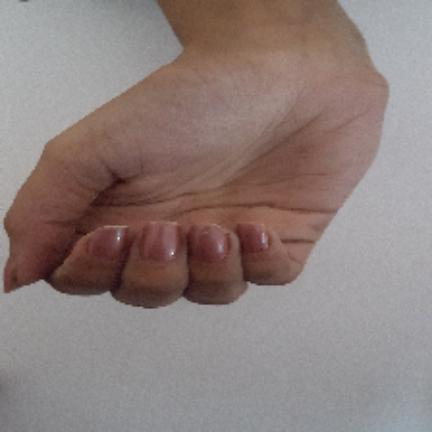Nail: (139, 222, 180, 262), (188, 224, 229, 261), (94, 225, 128, 259), (236, 224, 269, 253)
